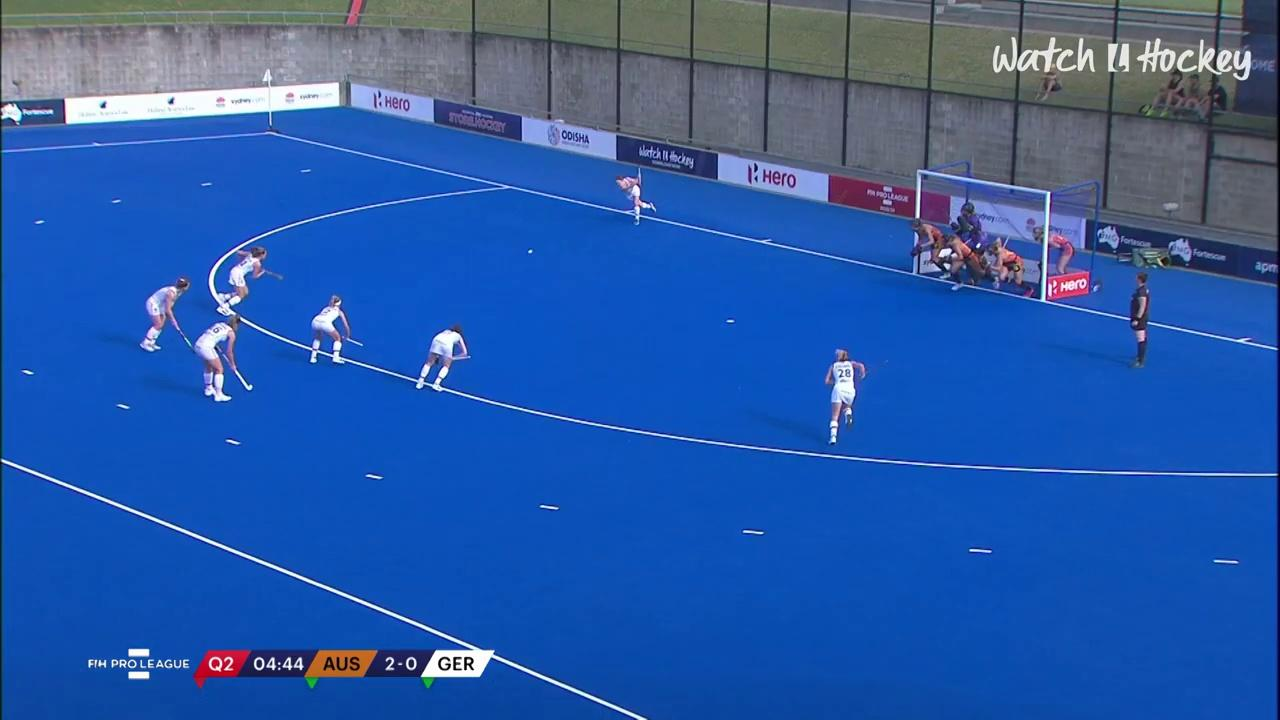ball: (522, 240, 540, 260)
